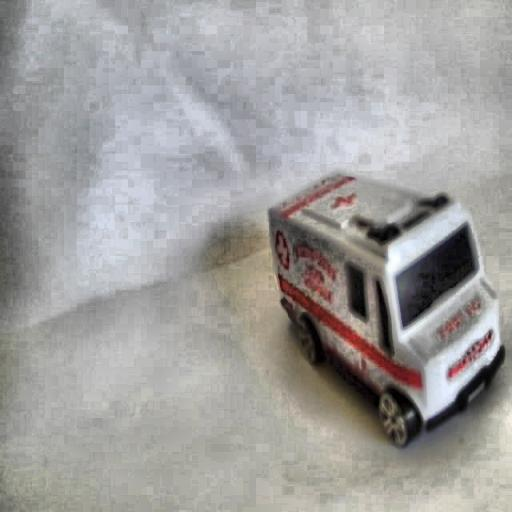ambulance: (267, 170, 504, 448)
